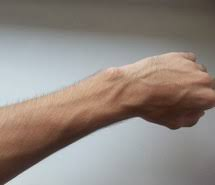hand: (117, 42, 213, 136)
